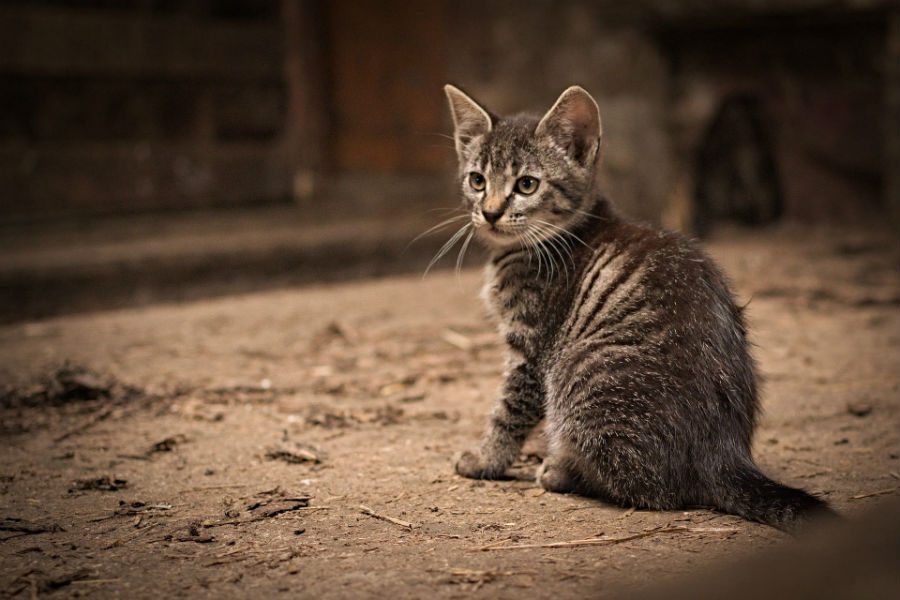cat: (420, 90, 770, 522)
